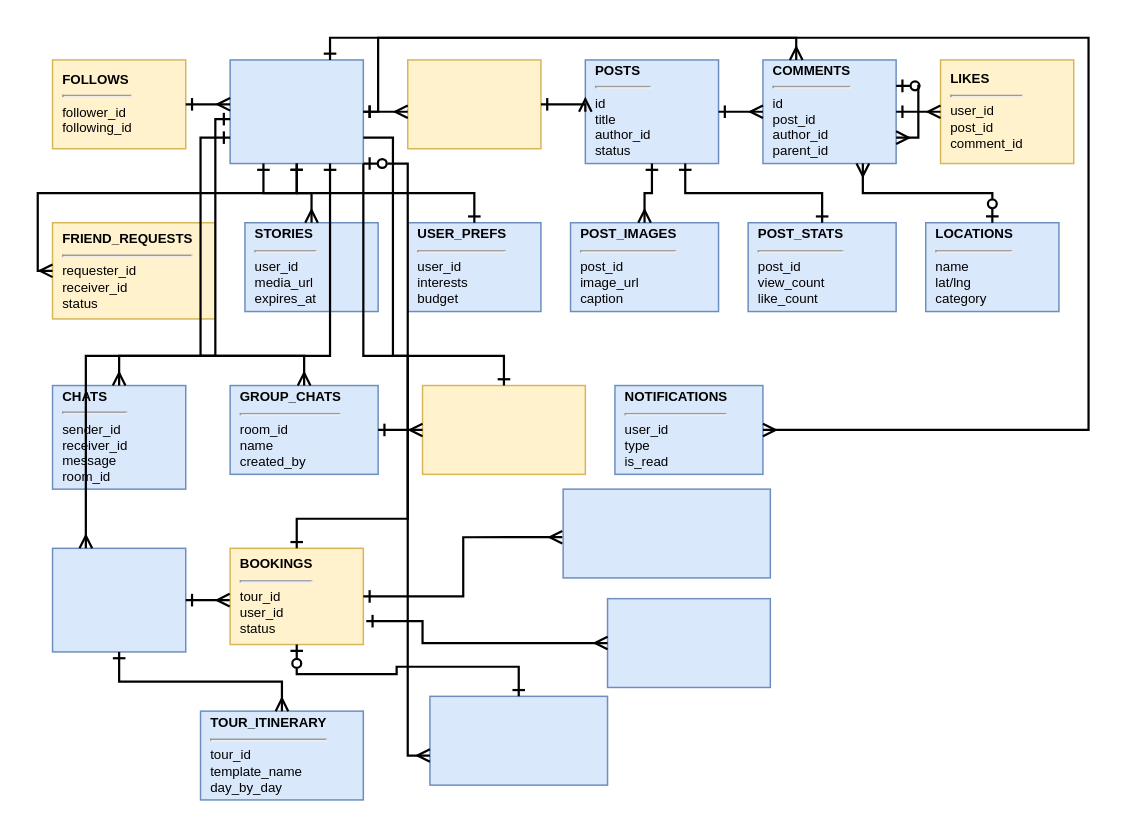
Image size: 1129x827. Some labels were removed from this diagram. Each missing label, with the centre of its shape:
"BOOKING_PARTICIPANTS booking_id full_name phone" belongs at [666,533].
"BOOKMARKS user_id post_id" belongs at [473,103].
"GROUP_MEMBERS group_id user_id role" belongs at [503,429].
"TOUR_ASSIGNMENTS booking_id tour_guide_id status" belongs at [518,740].
"TOUR_PROGRESS booking_id checkpoint status" belongs at [688,642].
"TOURS id title seller_id price" belongs at [118,599].
"USERS id username email role" belongs at [296,111].
